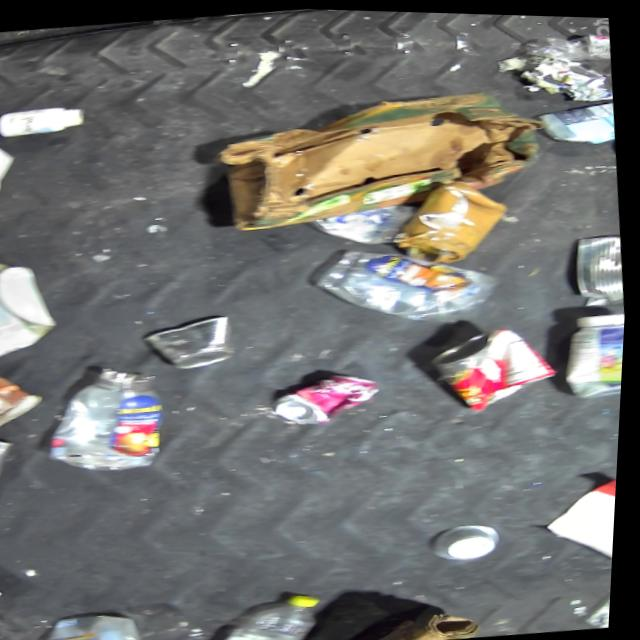can: (428, 316, 566, 416), (385, 171, 515, 268), (271, 366, 387, 428), (144, 311, 244, 372), (569, 228, 628, 298), (0, 431, 27, 498)
plastic_bottle: (44, 361, 170, 477), (197, 586, 334, 640), (524, 25, 611, 64)
